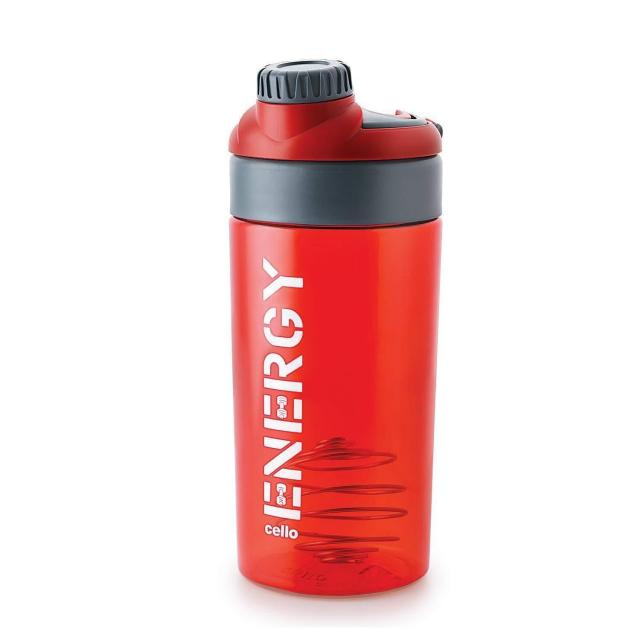gym bottle: (225, 55, 447, 601)
